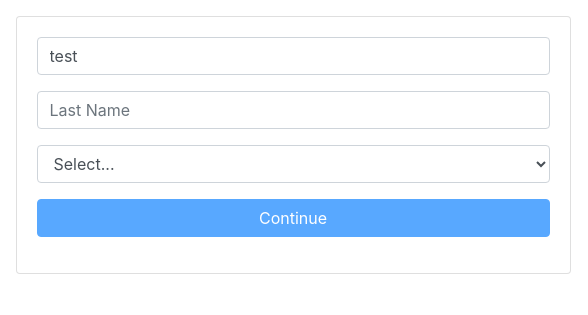
Test: Submit button › should not submit if lastName is empty
In the field titled "lastName": [293, 110] box 36,91 -> 550,129, type "asd"
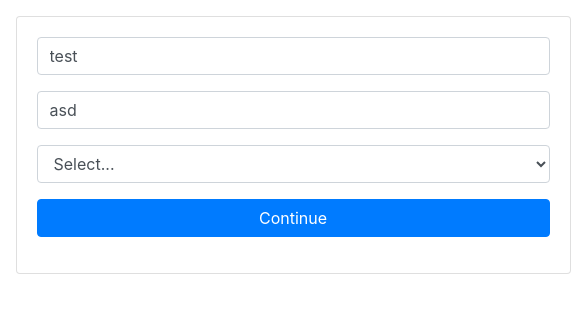
Clear the field titled "lastName": [293, 110] box 36,91 -> 550,129
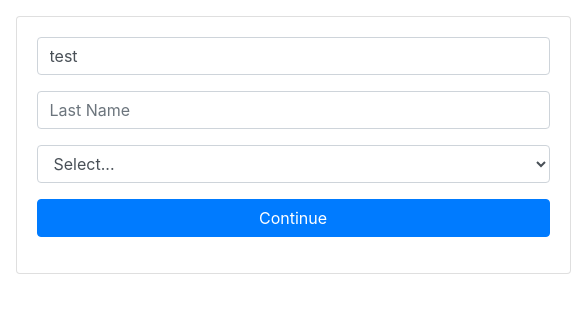
Click the button with test id "submit-btn": [293, 218] box 36,199 -> 550,237
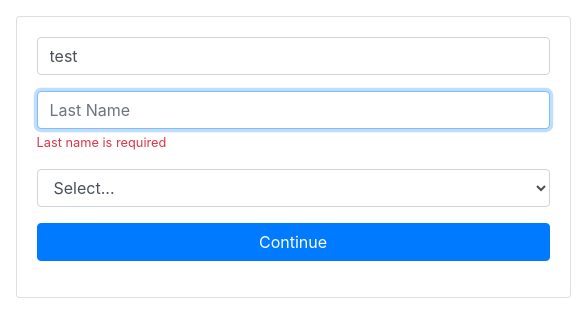
Expected: the text with test id "last-name-validation-error" reads "Last name is required", 36,135 -> 166,150
